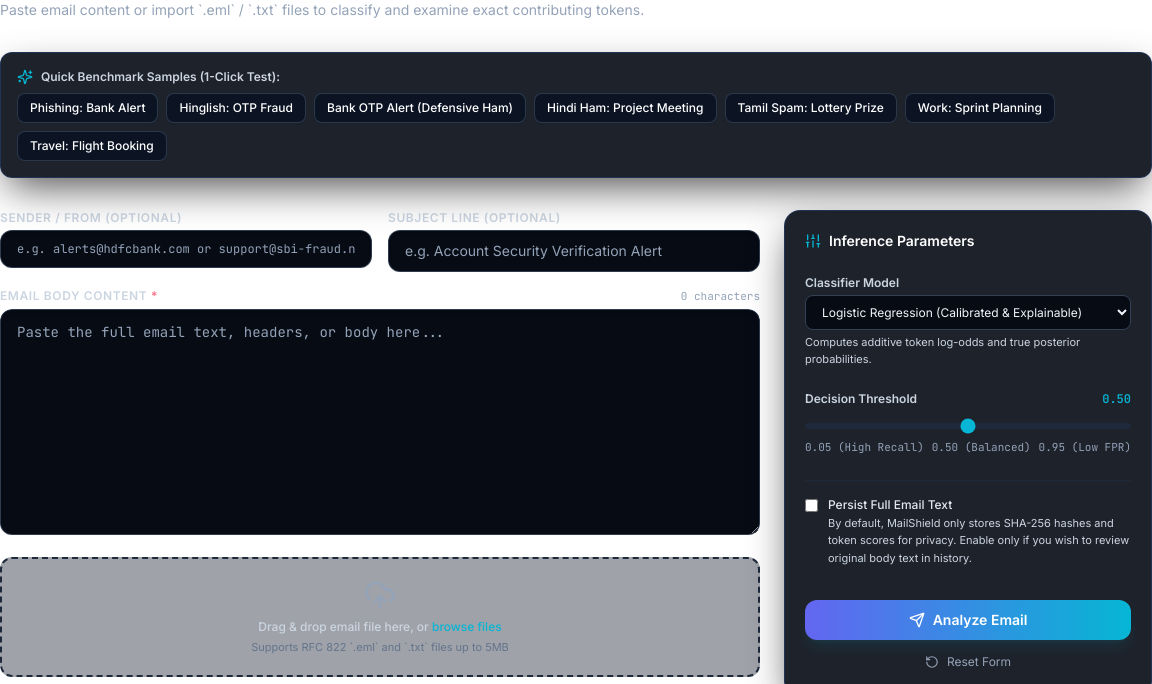
it: AnalyzerView Component › submits email for analysis and renders prediction result and feature attributions
The image size is (1152, 684).
Type "Suspicious invoice" into the field with placeholder "e.g. Account Security Verification Alert" at x=574, y=251, box top-left (388, 230), bottom-right (760, 272)
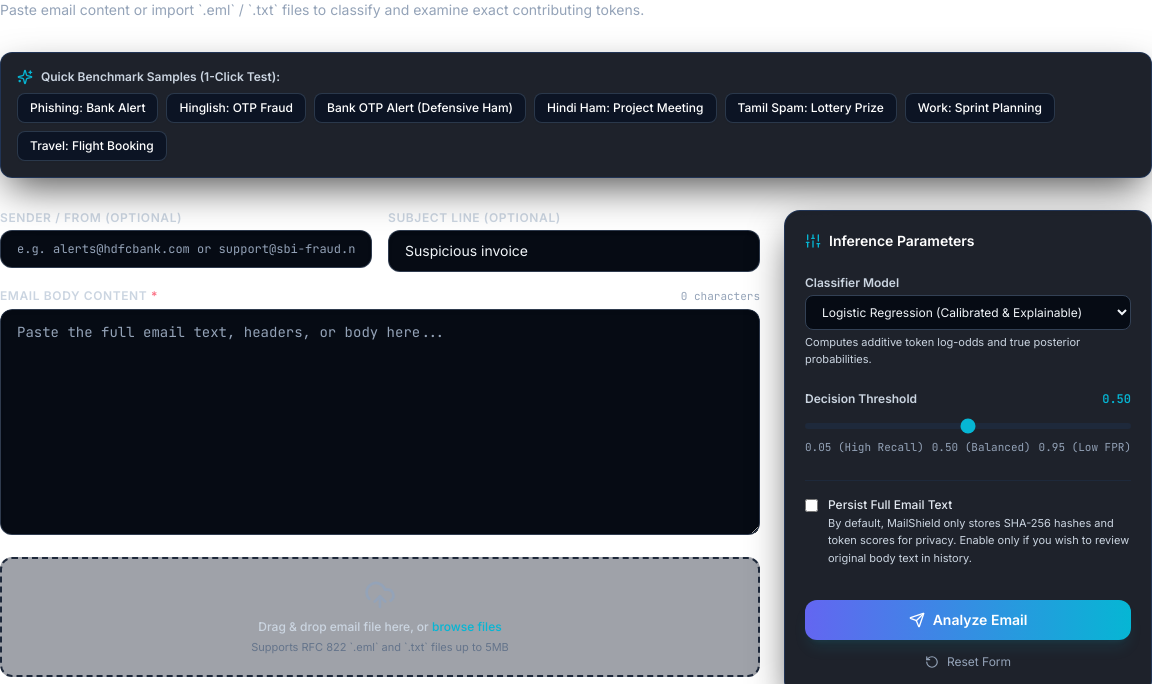
Type "Please verify urgent payment right now." into the text box with placeholder "Paste the full email text, headers, or body here..." at x=380, y=422, box top-left (0, 308), bottom-right (760, 534)
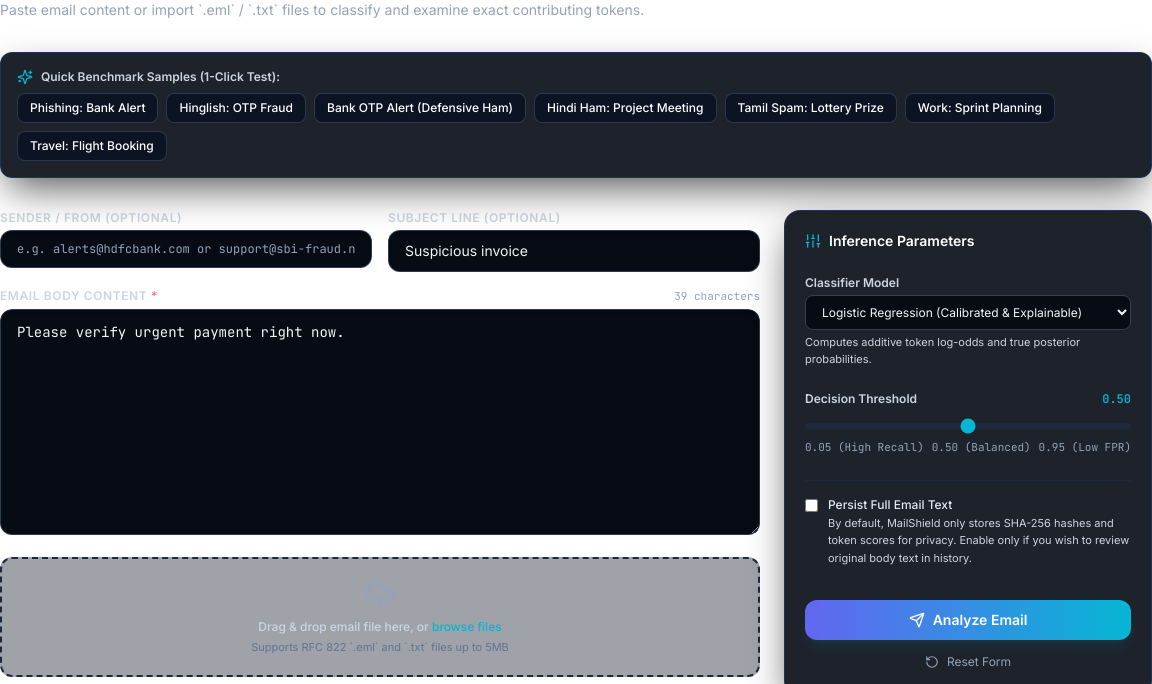
Click the button "Analyze Email" at x=968, y=620, box top-left (805, 600), bottom-right (1131, 640)
(page scrolled)
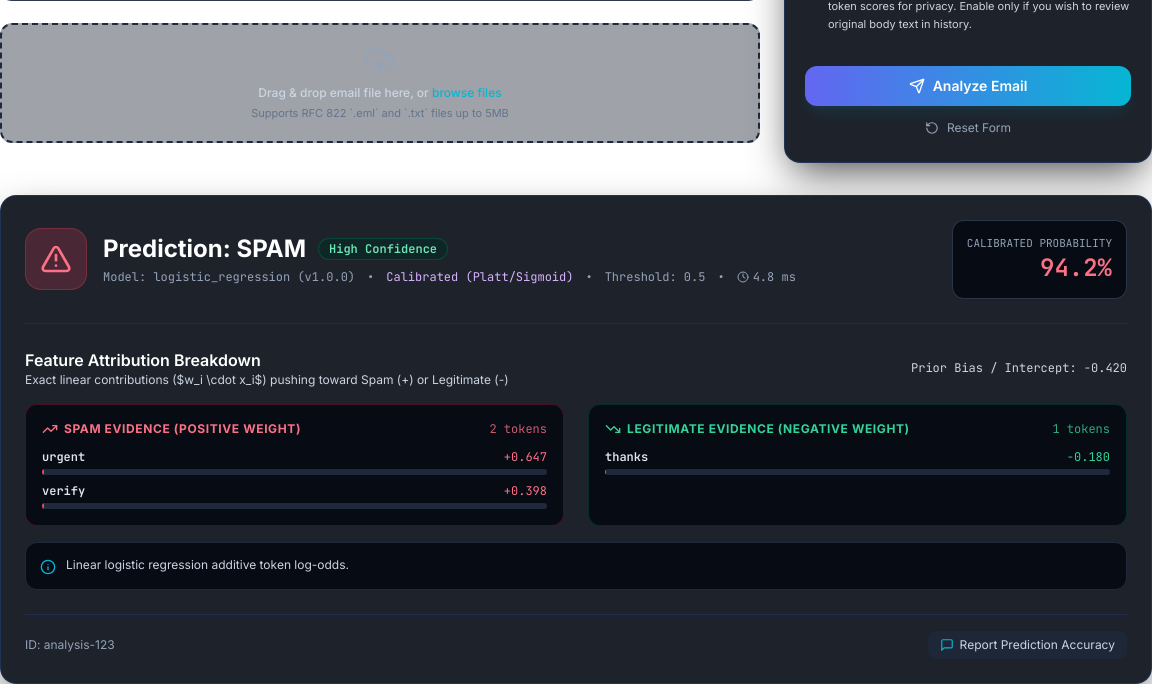
Expected: the heading "Prediction: SPAM" is shown, top-left (103, 233), bottom-right (306, 265)
Expected: the text "High Confidence" is shown, top-left (318, 238), bottom-right (448, 260)
Expected: the text "urgent" is shown, top-left (42, 449), bottom-right (85, 465)
